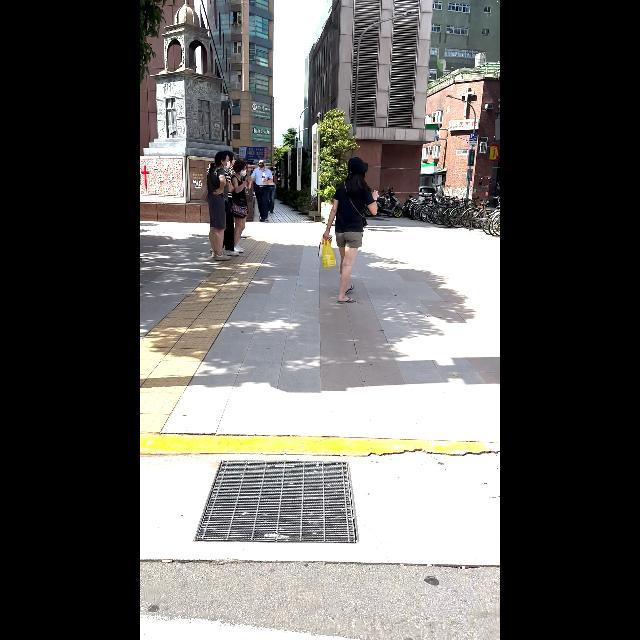sidewalk: (141, 555, 500, 640)
